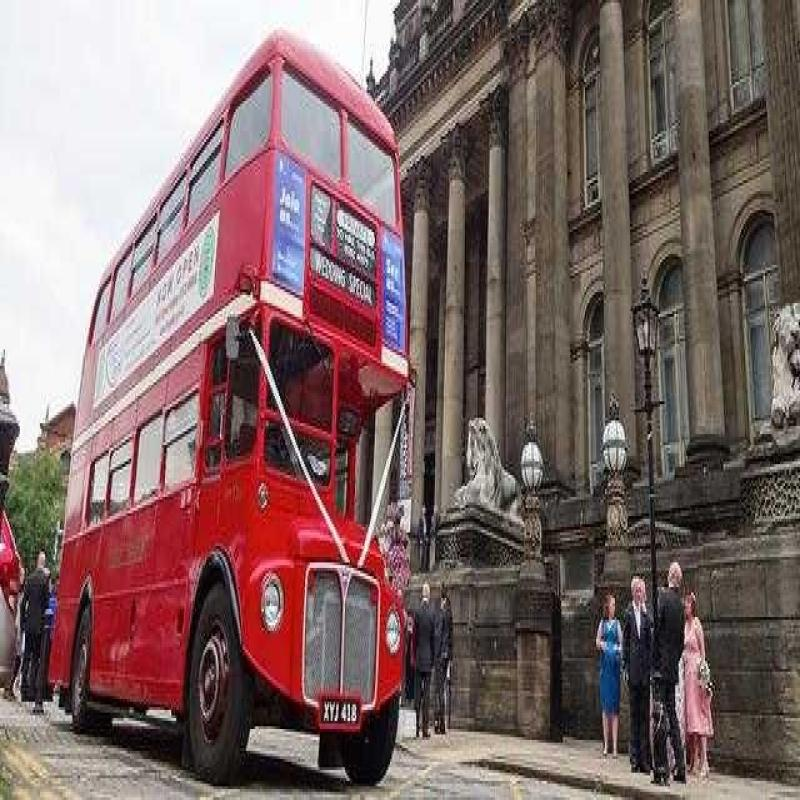bus: (69, 44, 411, 800)
